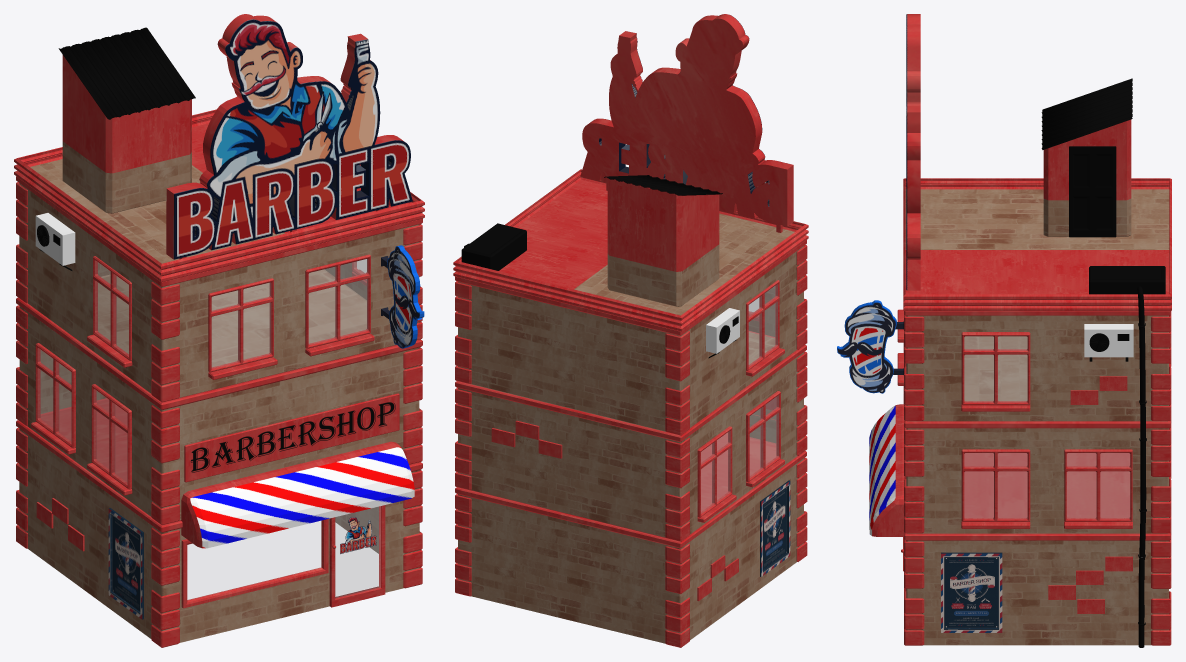
File: barber_shop_-_stylised.glb
The picture shows the model from 3 angles, left to right: view 1: azimuth 30°, elevation 25°; view 2: azimuth 150°, elevation 25°; view 3: azimuth 270°, elevation 25°; orthographic projection. The views are drawn at different scales.
Visible parts, largest first — view 1: Shop Base, Cube.001, Cube.003, Roof, Roof Doorway, Simple Single Window_Single Window, Roof Doorway.001, Barber shop front board for sign, Simple Window_Simple Window.004, Simple Window_Simple Window.005, Door, Simple Window_Simple Window.007 (+9 smaller); view 2: Shop Base, Cube.001, Roof, Roof Doorway, Simple Window_Simple Window.008, Simple Window_Simple Window.007, Plane.002, Simple Window_Simple Window.006, Water Tank, Air Conditioner Unit.001, Roof Doorway.001; view 3: Shop Base, Roof, Simple Window_Simple Window.002, Simple Window_Simple Window, Simple Window_Simple Window.001, Plane.001, Roof Doorway, Low Poly Door_Cube.006, Cube.003, Cube.001, Plane, Roof Doorway.001 (+6 smaller).
Part boxes in pixels (x1,y1,x2,y2): Shop Base: [16, 176, 422, 647]; Cube.001: [166, 14, 412, 259]; Cube.003: [181, 441, 414, 548]; Roof: [14, 109, 424, 282]; Roof Doorway: [62, 55, 191, 213]; Simple Single Window_Single Window: [181, 519, 328, 608]; Roof Doorway.001: [58, 27, 195, 119]; Barber shop front board for sign: [184, 393, 399, 482]; Simple Window_Simple Window.004: [208, 278, 273, 372]; Simple Window_Simple Window.005: [305, 254, 370, 348]; Door: [329, 505, 385, 607]; Simple Window_Simple Window.007: [91, 384, 131, 489]; Shop Base: [455, 240, 807, 647]; Cube.001: [580, 14, 793, 226]; Roof: [453, 169, 808, 331]; Roof Doorway: [607, 178, 719, 306]; Simple Window_Simple Window.008: [697, 426, 732, 517]; Simple Window_Simple Window.007: [746, 391, 780, 482]; Plane.002: [760, 480, 790, 576]; Simple Window_Simple Window.006: [746, 280, 779, 370]; Water Tank: [461, 223, 526, 270]; Air Conditioner Unit.001: [706, 308, 739, 358]; Roof Doorway.001: [604, 175, 722, 195]; Shop Base: [903, 311, 1171, 645]; Roof: [903, 178, 1171, 311]; Simple Window_Simple Window.002: [961, 332, 1030, 405]; Simple Window_Simple Window: [961, 449, 1030, 521]; Simple Window_Simple Window.001: [1064, 449, 1132, 521]; Plane.001: [941, 552, 1002, 632]; Roof Doorway: [1043, 119, 1131, 236]; Low Poly Door_Cube.006: [1069, 146, 1116, 237]; Cube.003: [869, 404, 904, 536]; Cube.001: [906, 14, 920, 290]; Plane: [837, 300, 903, 393]; Roof Doorway.001: [1041, 78, 1132, 149].
Size of the model in its own units: 5.92 by 11.98 by 6.55.
Materials: 6 (5 with a texture image).
